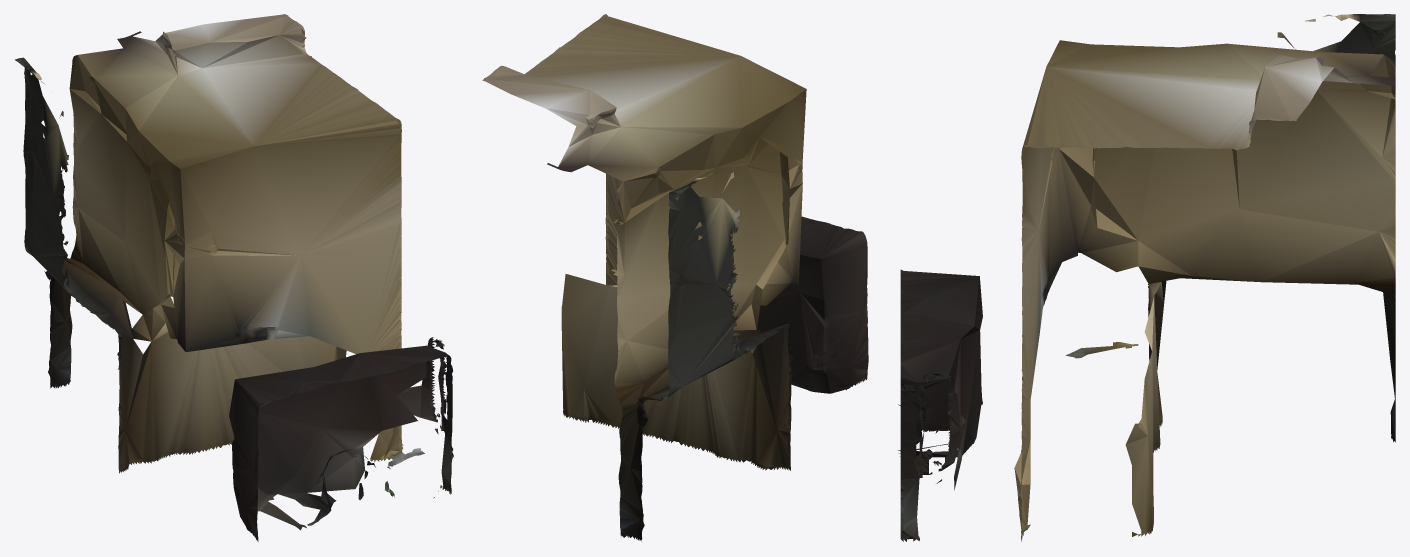
Rendered from coarse.glb.
3 renders of one model, left to right at view 1: azimuth 30°, elevation 25°; view 2: azimuth 150°, elevation 25°; view 3: azimuth 270°, elevation 25°, orthographic. The views are drawn at different scales.
Size of the model in its own units: 0.8855 by 1.31 by 1.39.
